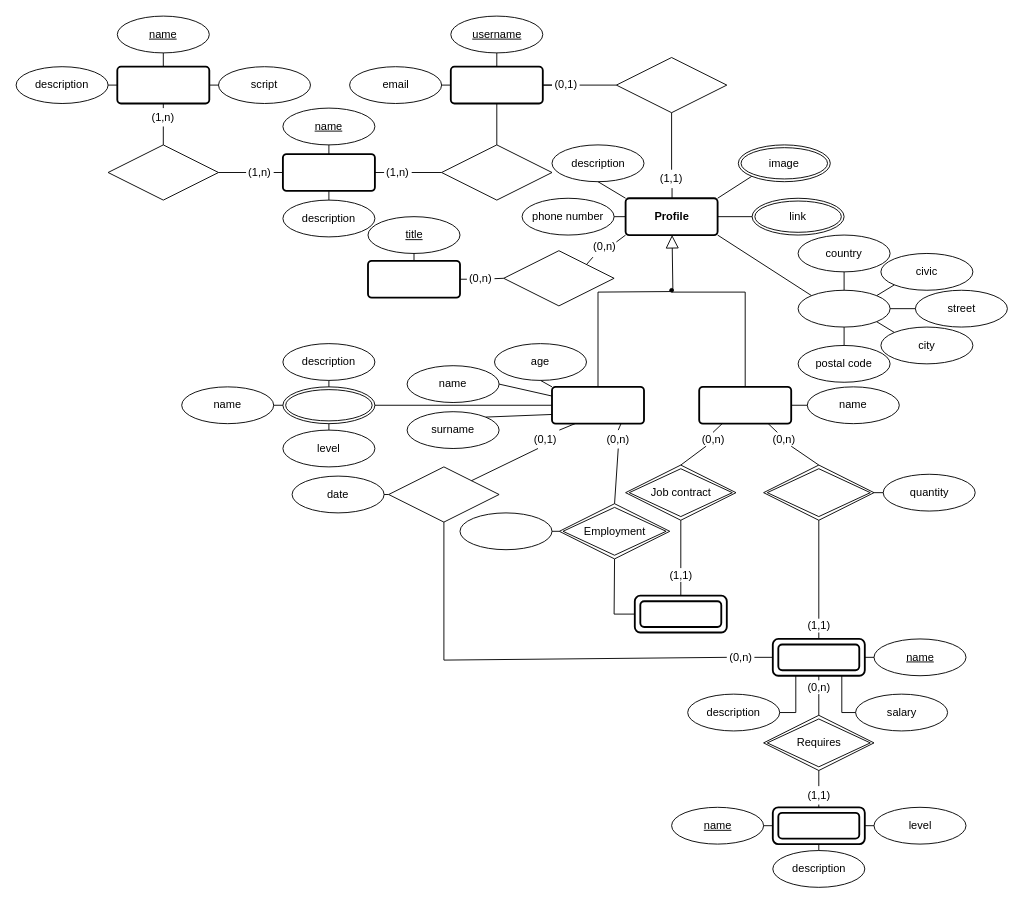
Some shapes in this 1024 by 903 pixel diagram are drawn without their labels. Each missing label, with the centre of its shape:
"address" goes at (843,308).
"Application" goes at (443,494).
"Candidate" goes at (597,404).
"Employer" goes at (745,404).
"Expertise" goes at (413,278).
"Job" goes at (680,613).
"Job offer" goes at (818,657).
"Makes" goes at (818,492).
"period" goes at (505,531).
"Profile expertise" goes at (558,278).
"Requirement" goes at (818,825).
"Role" goes at (328,172).
"Role service" goes at (162,172).
"Service" goes at (163,84).
"skill" goes at (328,405).
"User" goes at (496,84).
"User profile" goes at (671,85).
"User role" goes at (496,172).
